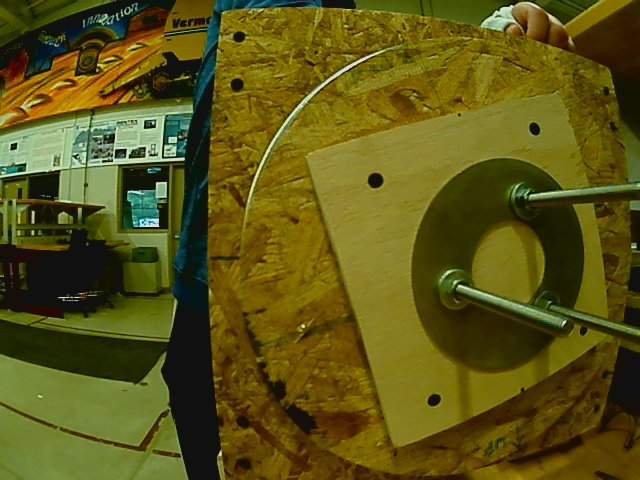bolt: (434, 266, 481, 317), (508, 179, 547, 227), (531, 287, 566, 312)
